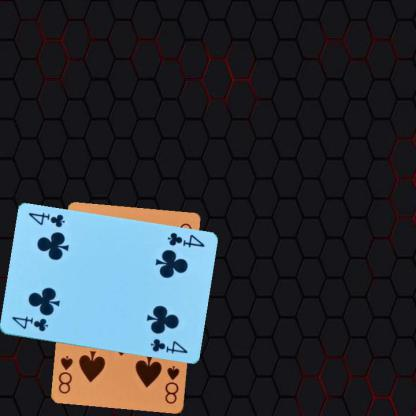4c: (164, 230, 206, 249), (9, 314, 49, 333)
8s: (162, 362, 181, 406)
